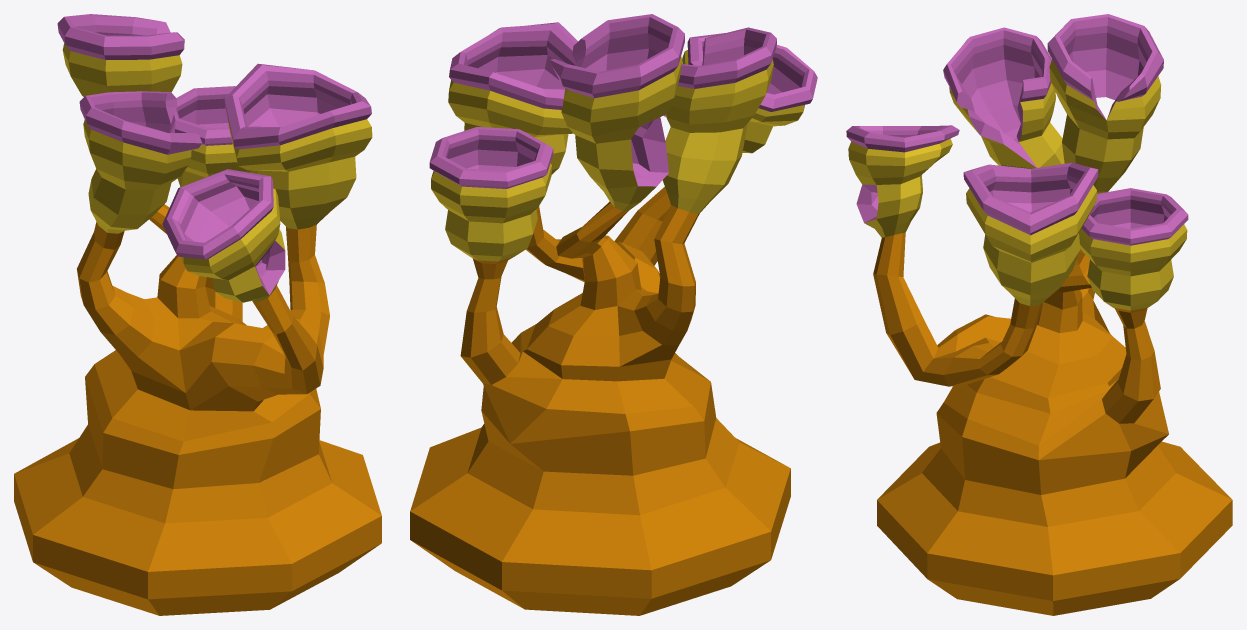
File: Tree_16_Var_01.fbx
3 views of the same model, side by side, from view 1: azimuth 30°, elevation 25°; view 2: azimuth 150°, elevation 25°; view 3: azimuth 270°, elevation 25° (orthographic). The views are drawn at different scales.
Parts seen in each view (by area): view 1: Tree_16_Var_01; view 2: Tree_16_Var_01; view 3: Tree_16_Var_01.
Boxes of the visible parts, x1,y1,x2,y2 form: Tree_16_Var_01: (14,14,381,615); Tree_16_Var_01: (410,14,817,615); Tree_16_Var_01: (846,14,1232,615).
Size of the model in its own units: 2.03 by 2.93 by 1.87.
